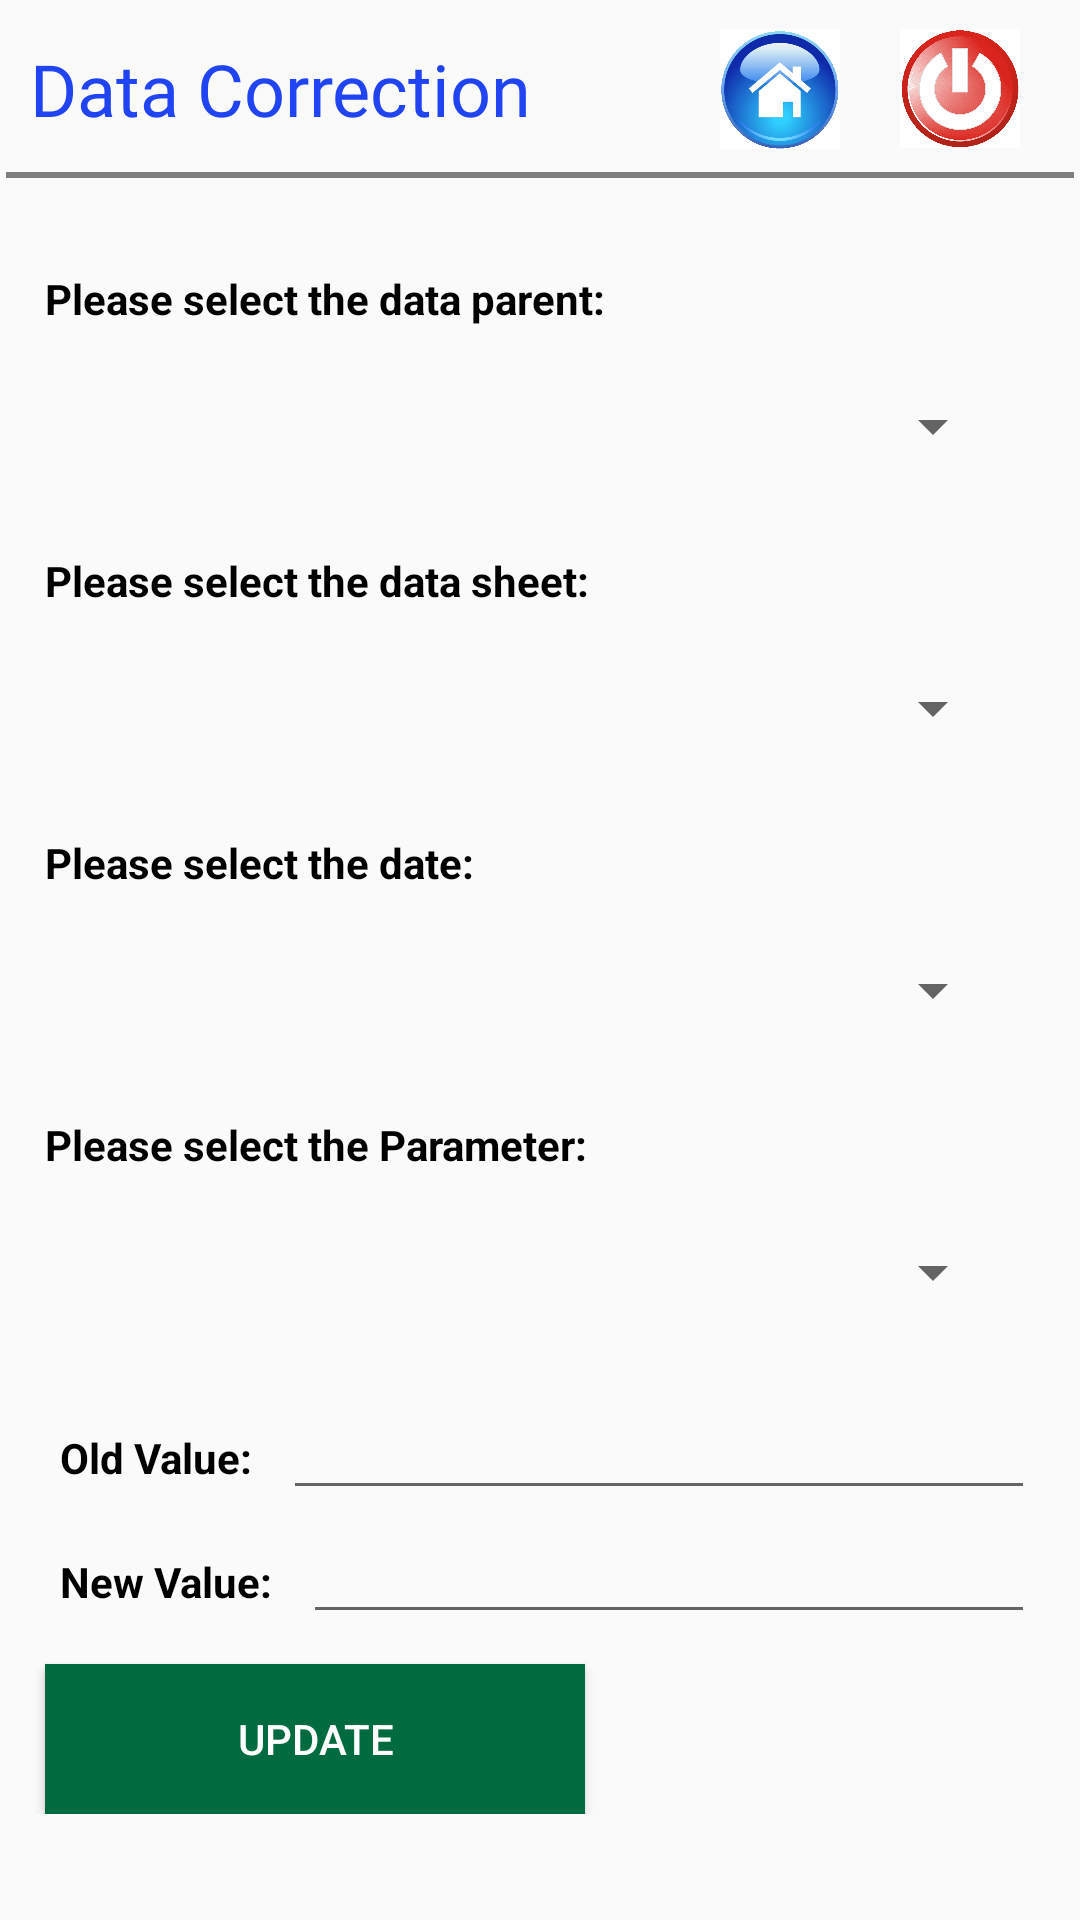

Named icons in this screenshot (1080x1920) and their bounding boxes, bbox(x1, y1, x2, y2):
home: bbox(721, 31, 838, 149)
sign out: bbox(902, 30, 1019, 147)
